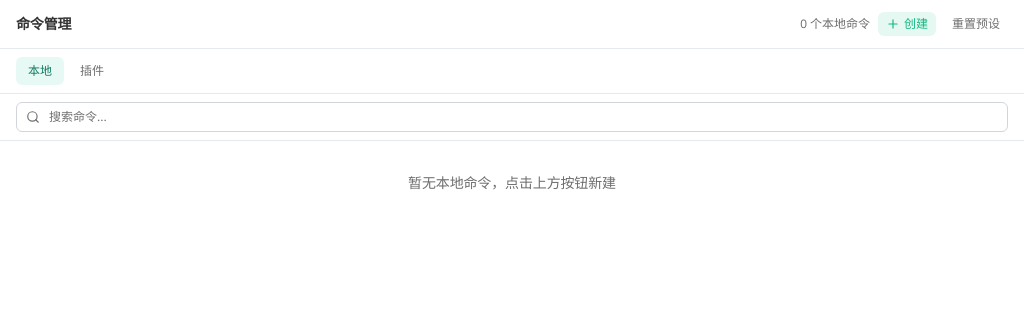
Test: CommandsDialog / PluginGroupCard 迁移后语义 › 点击 header → 渲染命令卡片，aria-expanded=true
Step 1. Click the button "插件" → (92, 71), box [68,57,116,85]
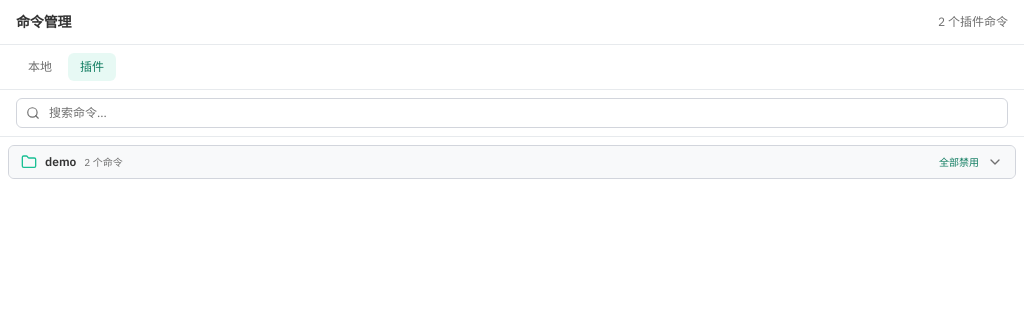
Now the button "demo 2 个命令 全部禁用" is shown
Step 2. Click the button "demo 2 个命令 全部禁用" → (61, 162), box [9,146,1015,178]
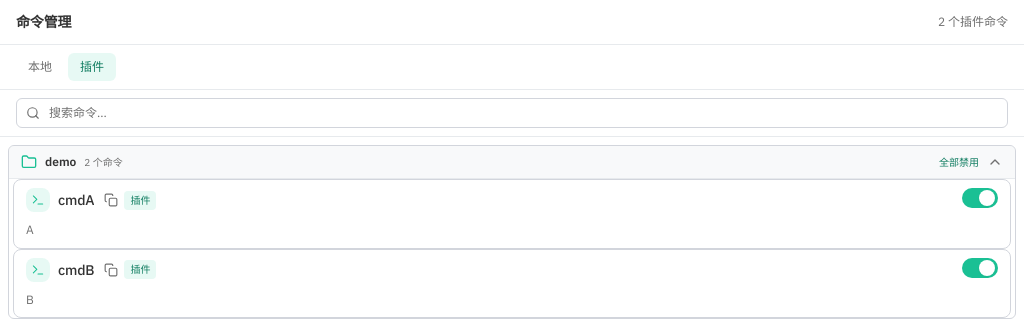
Now the button "demo 2 个命令 全部禁用" is expanded, box [9,146,1015,178]
